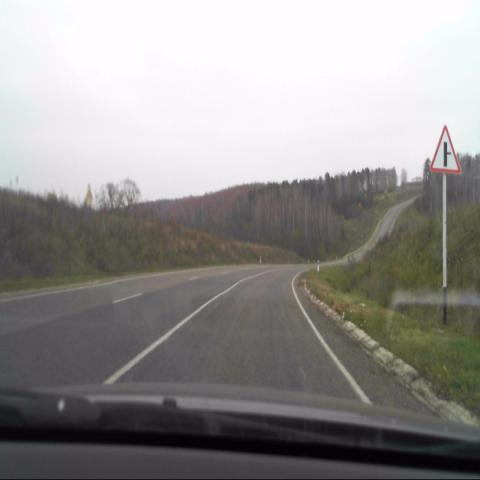2_3_2: (430, 124, 462, 174)
